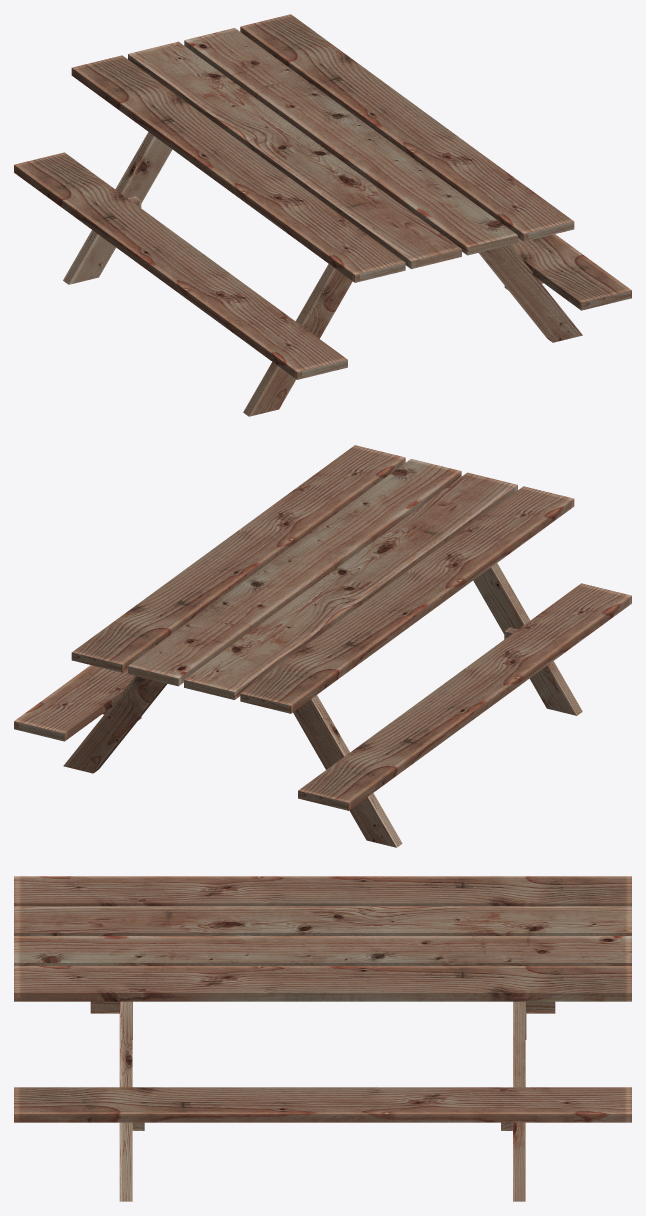
Rendered from bench.FBX.
The picture shows the model from 3 angles, top to bottom: view 1: azimuth 30°, elevation 25°; view 2: azimuth 150°, elevation 25°; view 3: azimuth 270°, elevation 25°; orthographic projection. The views are drawn at different scales.
Visible parts, largest first — view 1: bench; view 2: bench; view 3: bench.
Part boxes in pixels (<box>): bench: <box>14,14,631,416</box>; bench: <box>14,445,631,847</box>; bench: <box>14,876,631,1201</box>.
Size of the model in its own units: 55.46 by 25.88 by 81.29.
